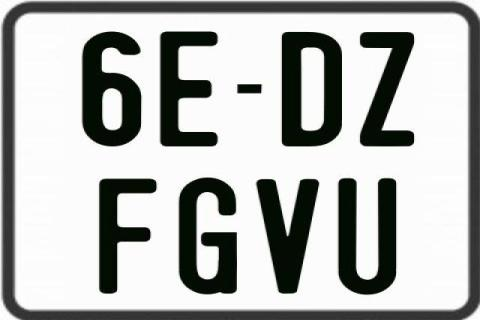0: (80, 29, 141, 144)
D: (279, 30, 339, 146)
E: (157, 31, 221, 148)
F: (97, 177, 159, 293)
G: (178, 177, 240, 293)
U: (337, 179, 401, 295)
V: (255, 177, 319, 295)
Z: (359, 30, 415, 146)
